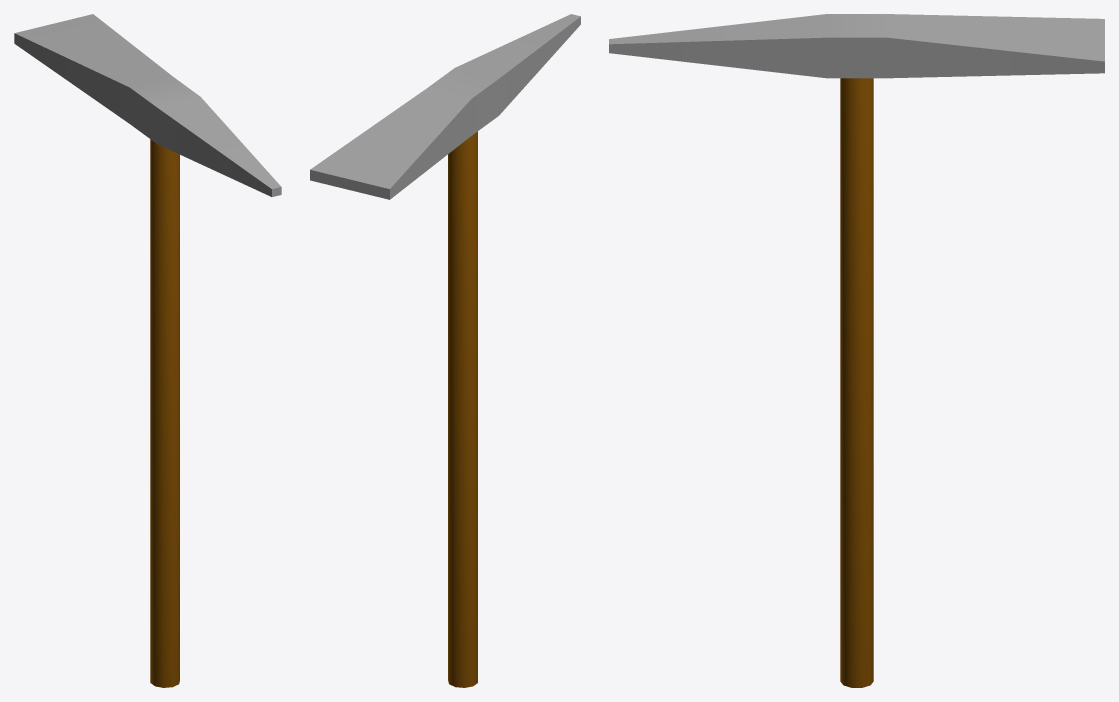
Rendered from SM_Prop_Pickaxe.fbx.
3 renders of one model, left to right at view 1: azimuth 30°, elevation 25°; view 2: azimuth 150°, elevation 25°; view 3: azimuth 270°, elevation 25°, orthographic. The views are drawn at different scales.
Parts seen in each view (by area): view 1: SM_Prop_Pickaxe; view 2: SM_Prop_Pickaxe; view 3: SM_Prop_Pickaxe.
Boxes of the visible parts, box(x1,y1,x2,y2) form: SM_Prop_Pickaxe: box(14, 14, 281, 687); SM_Prop_Pickaxe: box(310, 14, 580, 687); SM_Prop_Pickaxe: box(609, 14, 1104, 687).
Size of the model in its own units: 11.27 by 80.66 by 55.3.
